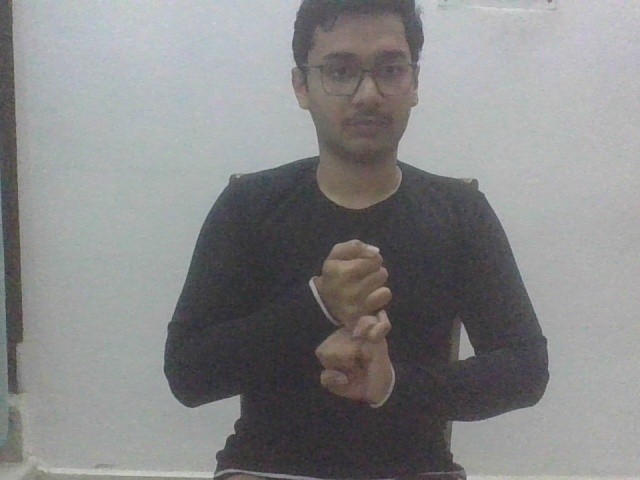S: (306, 237, 397, 412)
